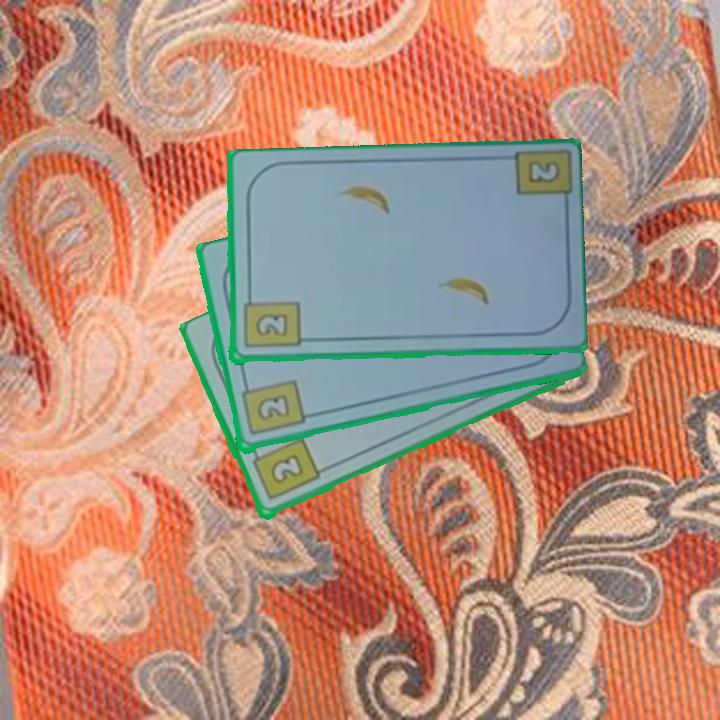2b: (248, 435, 322, 504), (237, 377, 307, 439), (239, 290, 302, 351), (524, 157, 563, 187)
